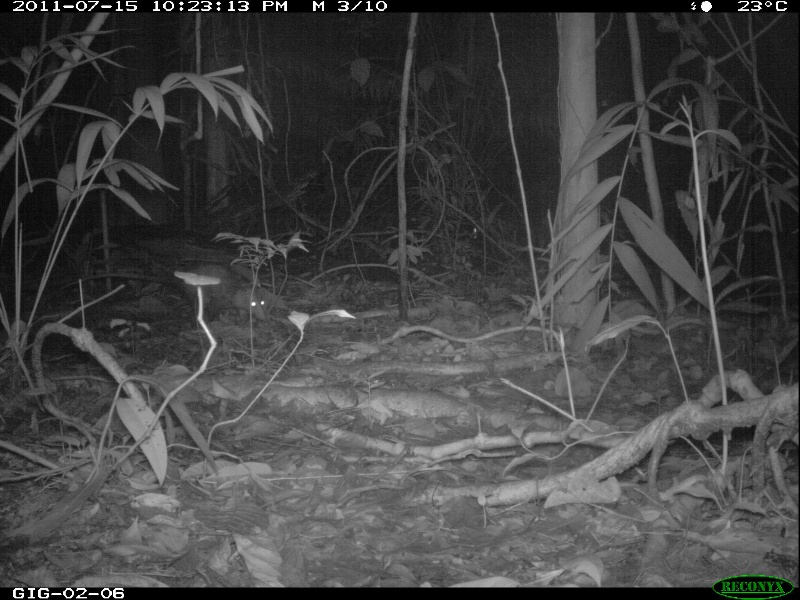opossum: (148, 256, 272, 323)
